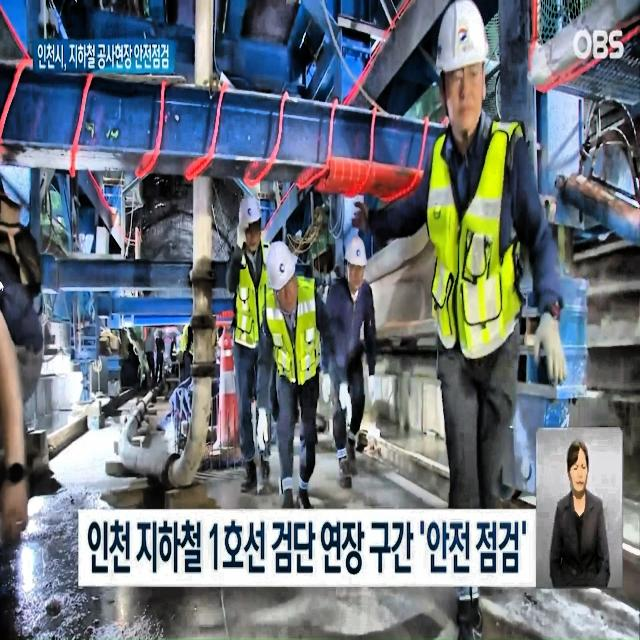safety_helmet: (428, 0, 498, 69), (265, 242, 309, 286), (234, 187, 268, 232), (347, 228, 373, 272)
safety_jacket: (414, 141, 532, 364), (278, 299, 324, 402), (236, 242, 274, 347)
